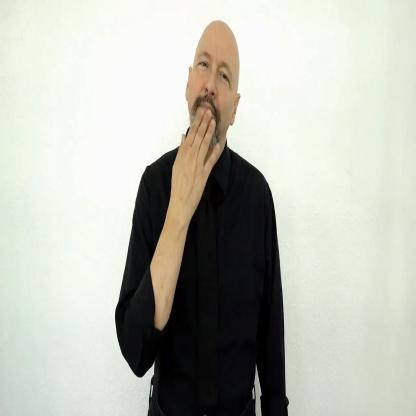ThankYou: (115, 18, 290, 416)
